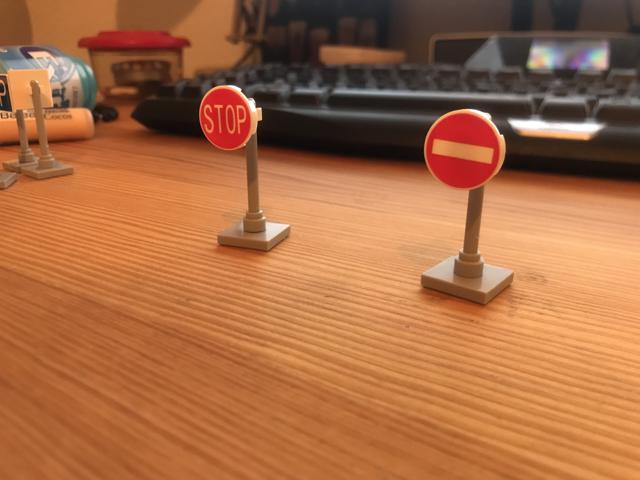stop: (198, 86, 254, 150)
verbot der einfahrt: (425, 110, 502, 191)
